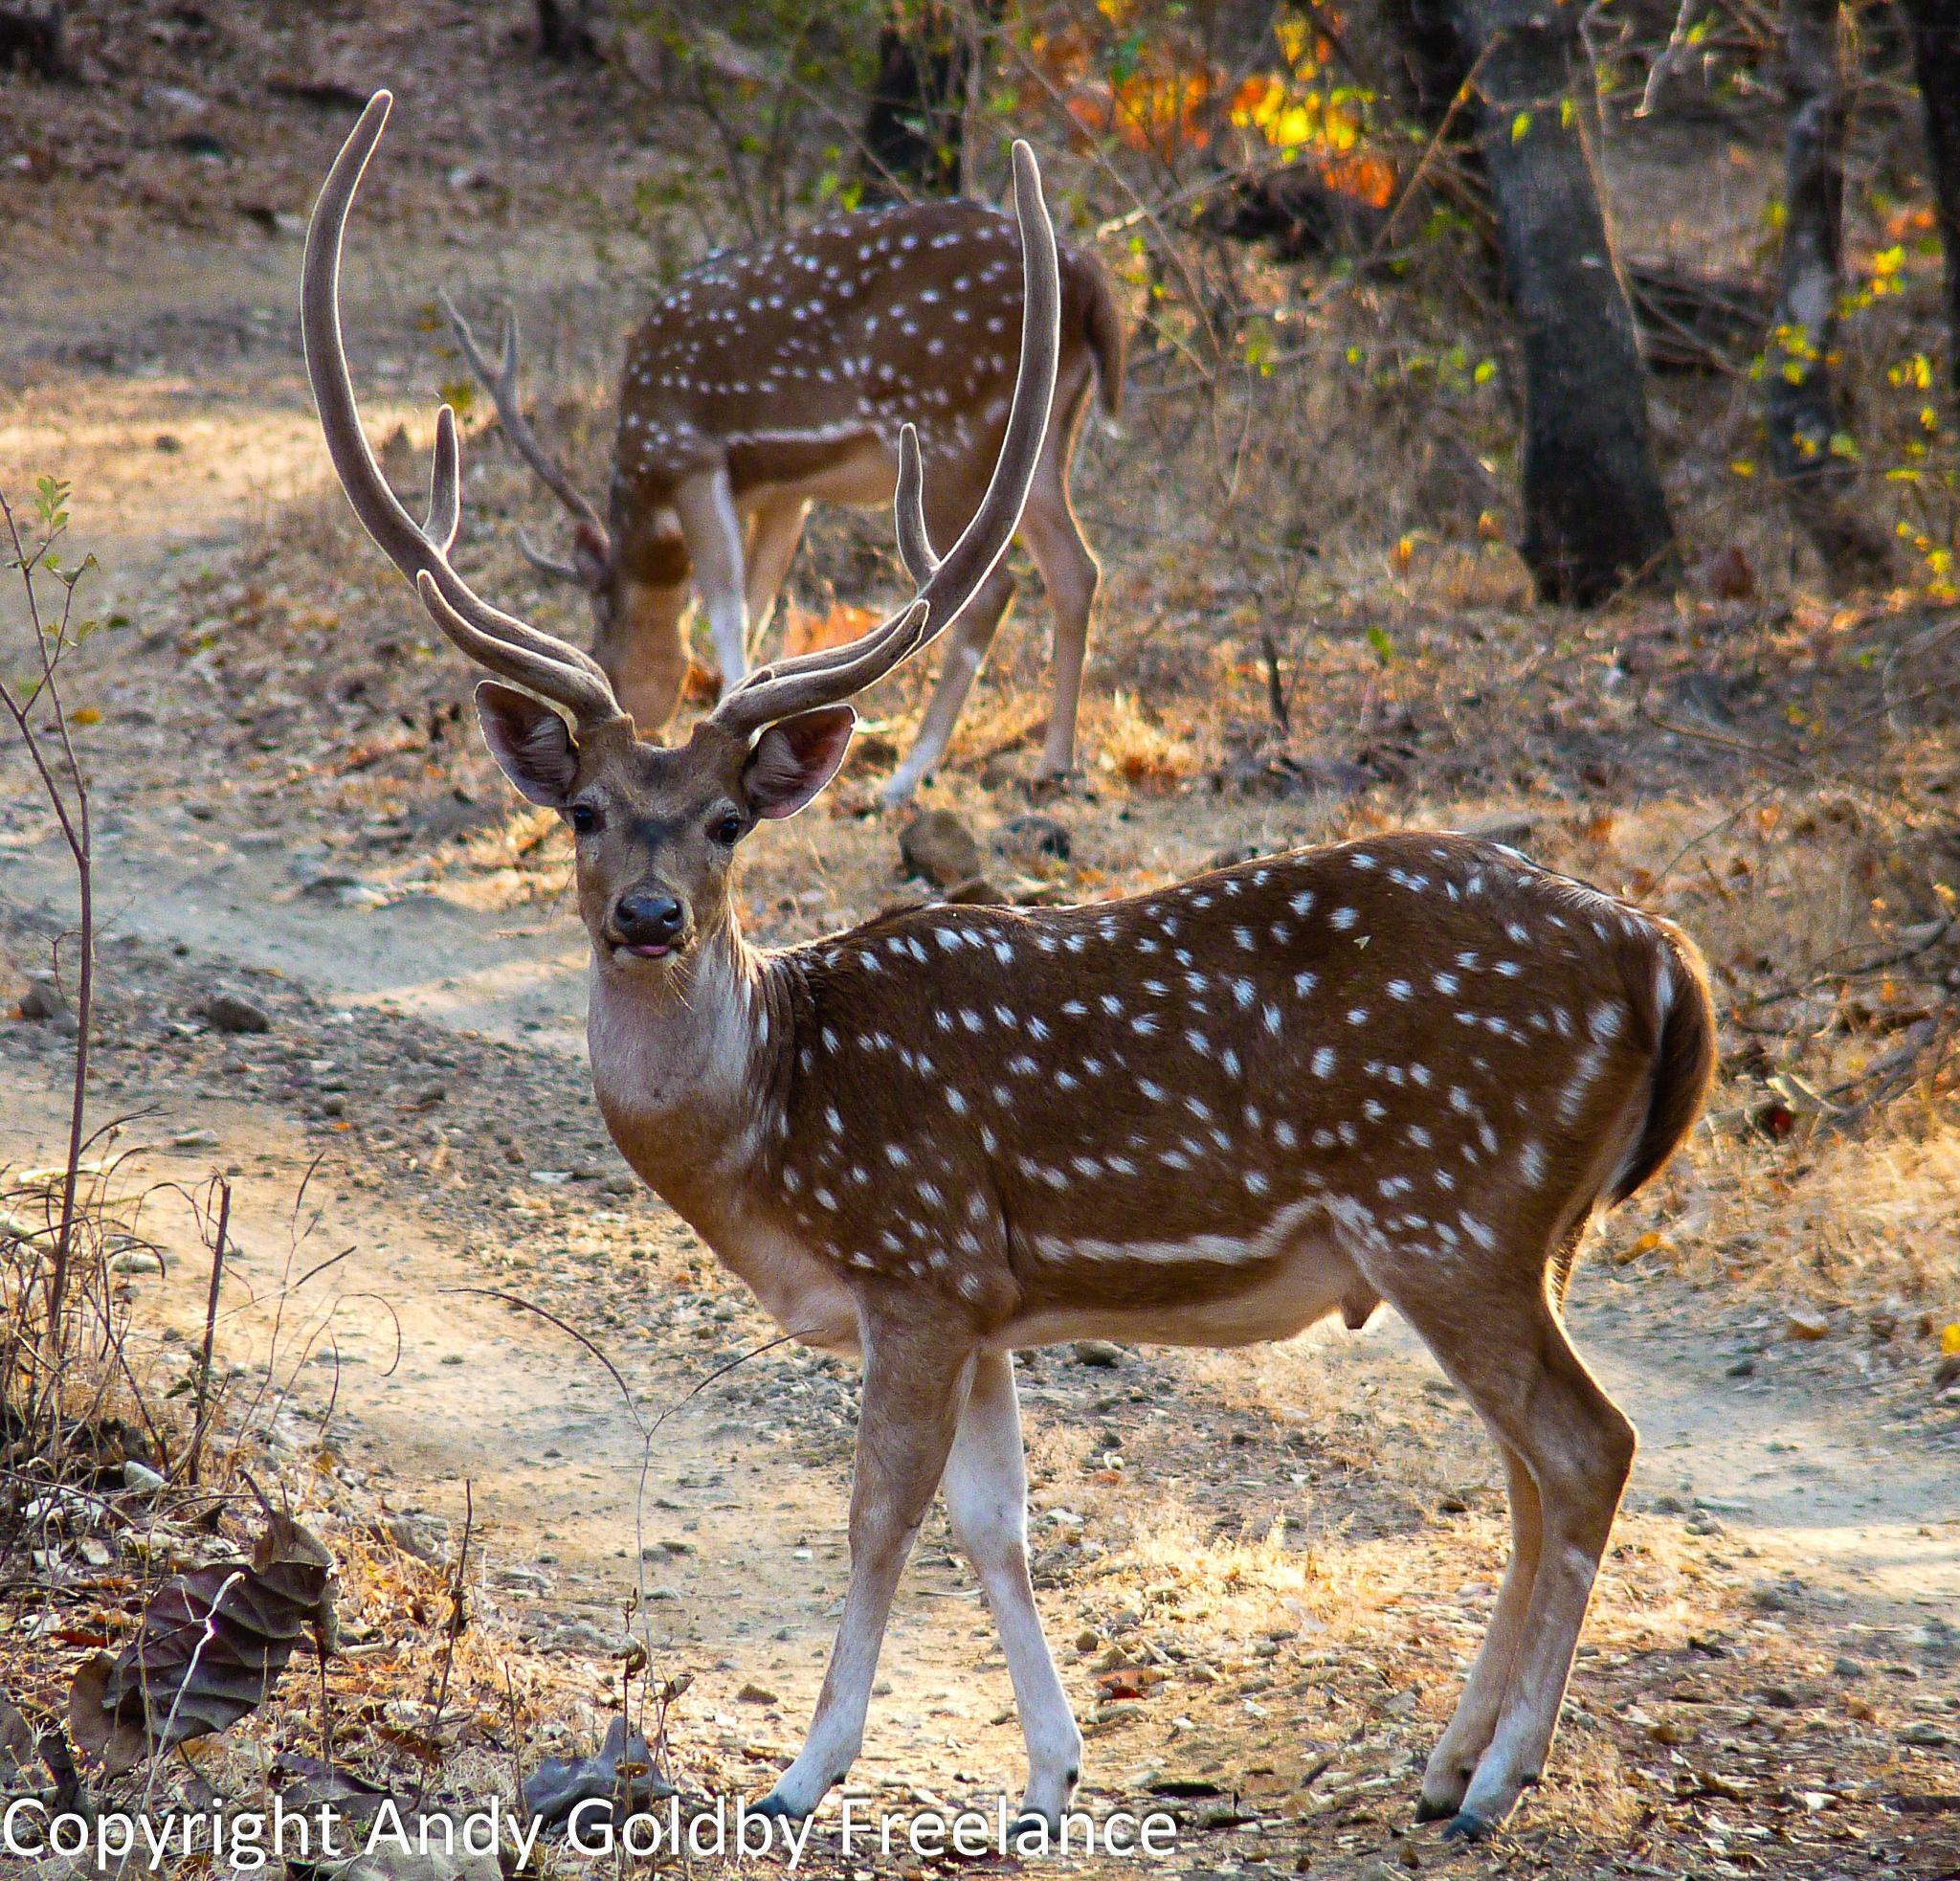Deer: (304, 93, 1713, 1832), (579, 201, 1025, 728)
